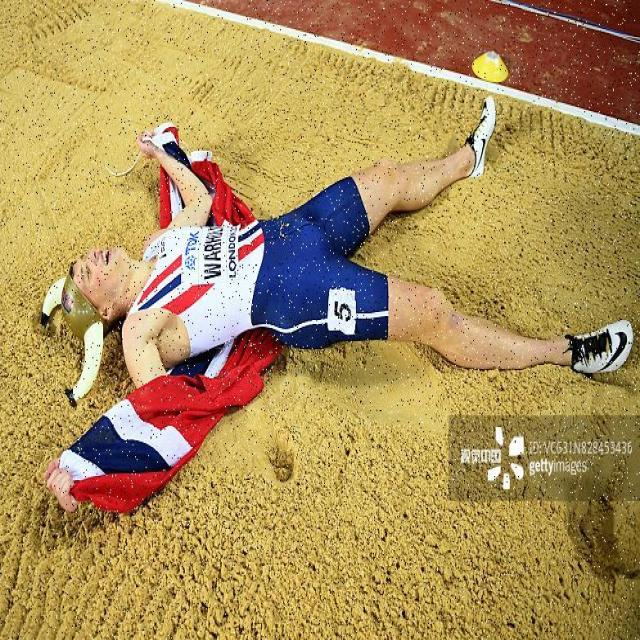fall: (52, 134, 617, 415)
